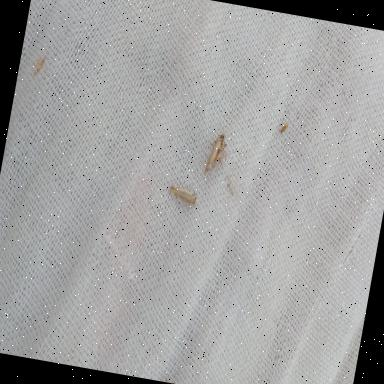pbw: (202, 130, 240, 186), (168, 185, 198, 205)
